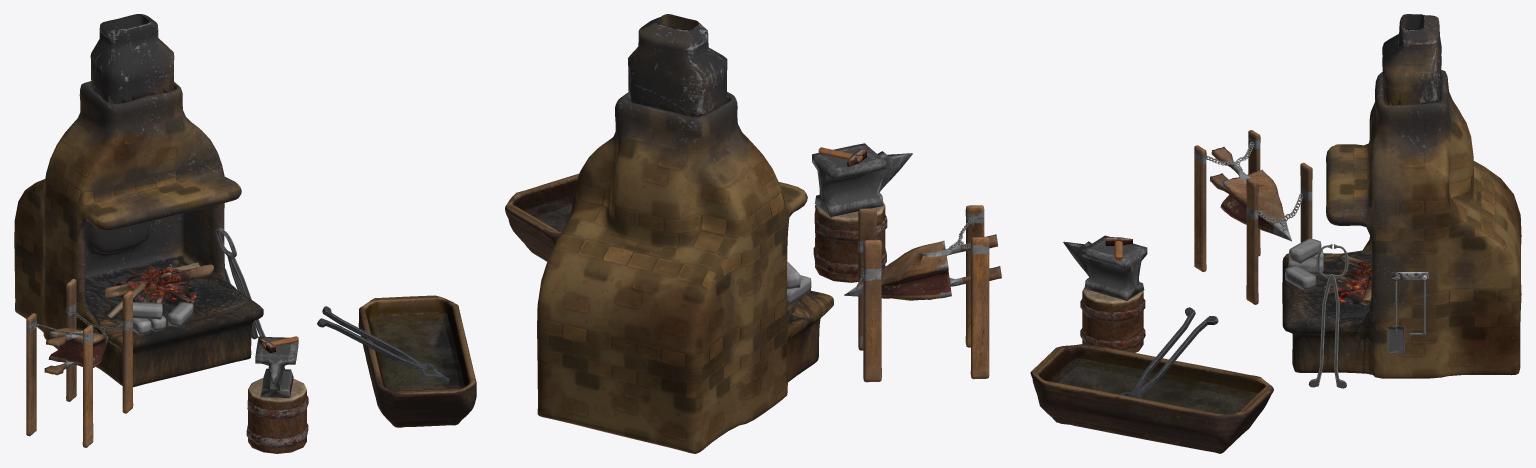
Rendered from Forge.gltf.
The picture shows the model from 3 angles, left to right: view 1: azimuth 30°, elevation 25°; view 2: azimuth 150°, elevation 25°; view 3: azimuth 270°, elevation 25°; orthographic projection. The views are drawn at different scales.
Visible parts, largest first — view 1: PM3D_Cube3D_2, water1, AIR, PM3D_Cube3D1_2, water, BAREEL, FIRE, Anvil, HANDMADE, mETAL, HANDMADE2; view 2: PM3D_Cube3D_2, AIR, PM3D_Cube3D1_2, Anvil, water1, BAREEL, water, mETAL; view 3: PM3D_Cube3D_2, water1, AIR, water, PM3D_Cube3D1_2, BAREEL, Anvil, mETAL, HANDMADE, FIRE, HANDMADE2, Lopata.
Part boxes in pixels (x1,y1,x2,y2): PM3D_Cube3D_2: (14,81,263,387); water1: (358,295,476,427); AIR: (26,278,133,447); PM3D_Cube3D1_2: (90,14,174,104); water: (369,312,464,390); BAREEL: (246,378,308,453); FIRE: (104,262,213,318); Anvil: (255,336,298,397); HANDMADE: (317,306,450,384); mETAL: (133,302,193,335); HANDMADE2: (215,227,265,339); PM3D_Cube3D_2: (537,92,833,453); AIR: (844,205,1001,382); PM3D_Cube3D1_2: (628,14,727,116); Anvil: (812,143,912,216); water1: (505,173,578,261); BAREEL: (813,202,887,282); water: (523,194,573,232); mETAL: (787,261,811,304); PM3D_Cube3D_2: (1282,70,1521,378); water1: (1030,344,1273,453); AIR: (1194,130,1312,304); water: (1050,358,1257,414); PM3D_Cube3D1_2: (1382,14,1441,105); BAREEL: (1080,287,1145,352); Anvil: (1063,235,1147,300); mETAL: (1285,238,1323,290); HANDMADE: (1120,307,1218,398); FIRE: (1323,255,1371,305); HANDMADE2: (1308,244,1348,388); Lopata: (1387,273,1428,353).
Size of the model in its own units: 12.54 by 9.1 by 12.44.
14 materials, 14 textured.
